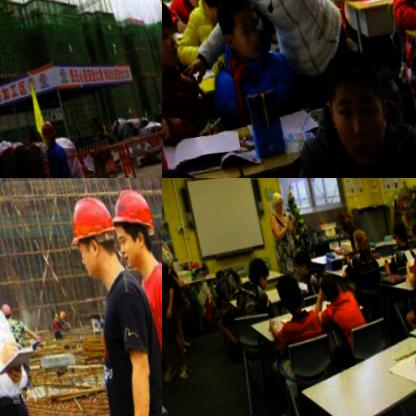head: (313, 39, 397, 173), (210, 0, 266, 66), (275, 266, 305, 309), (162, 0, 179, 68), (192, 0, 235, 25), (242, 252, 270, 287), (348, 220, 373, 255), (316, 263, 342, 296), (292, 243, 312, 275), (388, 216, 408, 242), (340, 212, 357, 239), (268, 186, 284, 211), (406, 212, 416, 244)
helmet: (57, 181, 134, 286), (100, 178, 162, 275), (37, 115, 58, 146)
